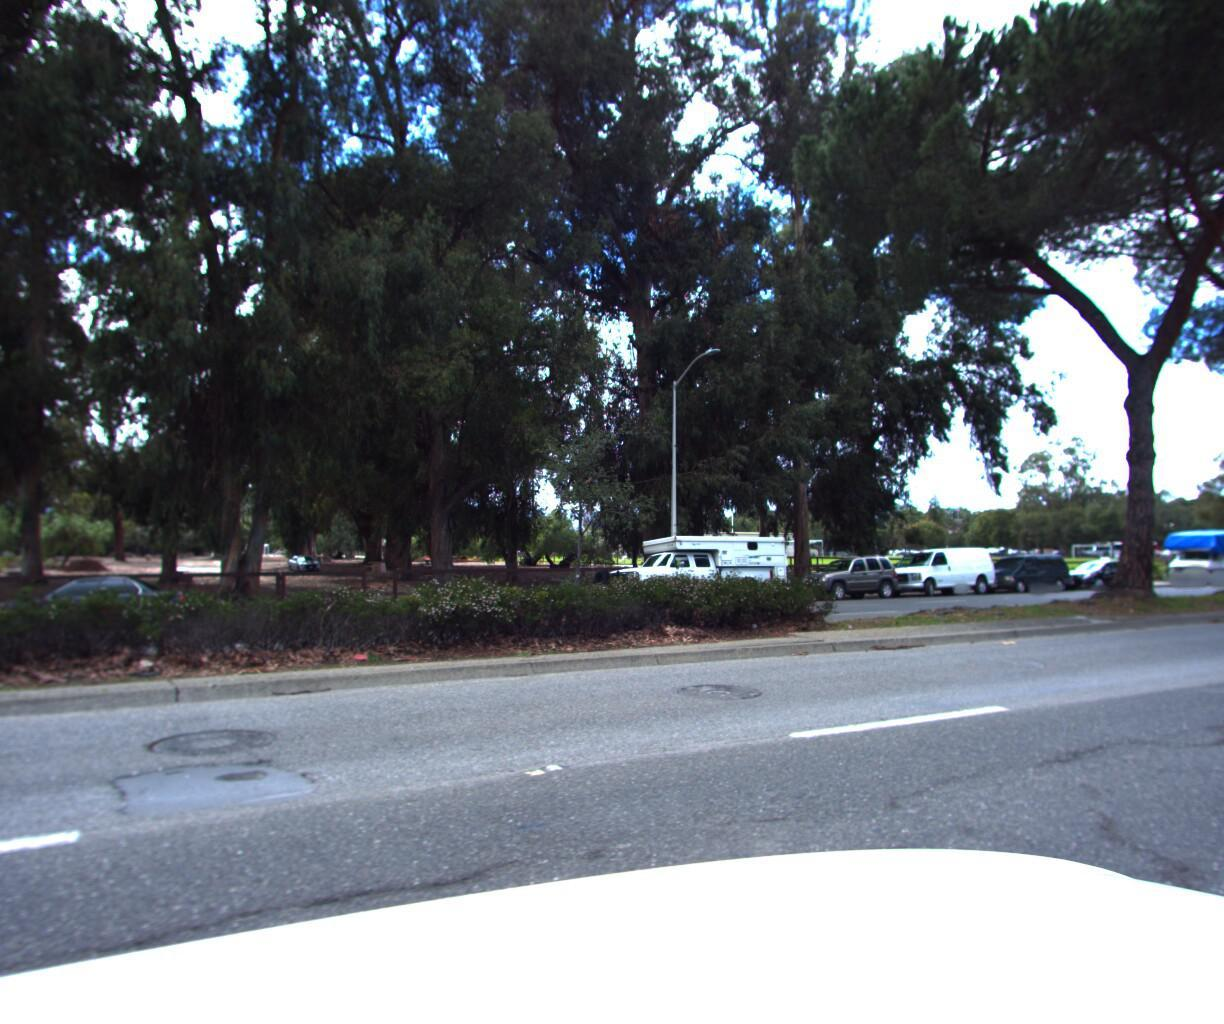car: (873, 546, 1000, 598), (790, 553, 907, 603), (970, 551, 1072, 595), (1052, 561, 1145, 591)
other_vehicle: (576, 532, 799, 616), (1150, 526, 1224, 586)
